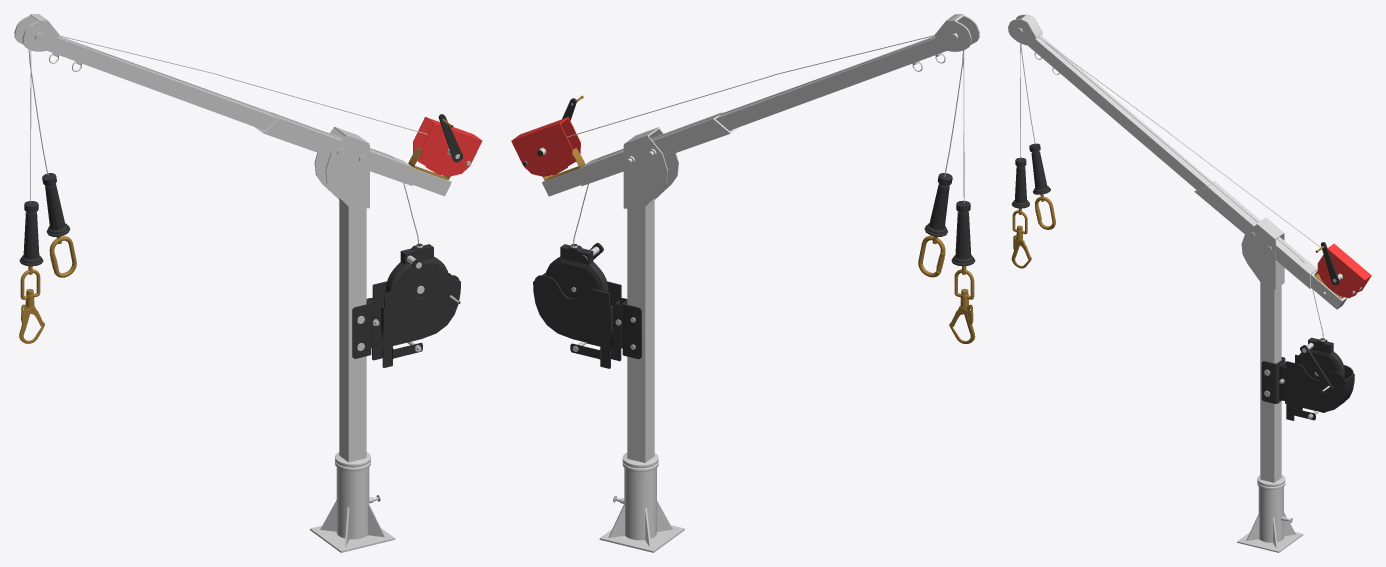
The model's file is SM_K_Pod.FBX.
3 renders of one model, left to right at view 1: azimuth 30°, elevation 25°; view 2: azimuth 150°, elevation 25°; view 3: azimuth 330°, elevation 25°, orthographic. The views are drawn at different scales.
Parts seen in each view (by area): view 1: SM_K_Pod, SM_K_Pod.ReTractable, SM_K_Pod_winch, SM_K_Pod_winch_hook, SM_K_Pod-RetractableHook; view 2: SM_K_Pod, SM_K_Pod.ReTractable, SM_K_Pod_winch, SM_K_Pod_winch_hook, SM_K_Pod-RetractableHook; view 3: SM_K_Pod, SM_K_Pod.ReTractable, SM_K_Pod_winch, SM_K_Pod_winch_hook, SM_K_Pod-RetractableHook.
Part boxes in pixels (x1,y1,x2,y2): SM_K_Pod: (14,14,451,552); SM_K_Pod.ReTractable: (28,36,460,367); SM_K_Pod_winch: (30,35,482,203); SM_K_Pod_winch_hook: (19,201,44,343); SM_K_Pod-RetractableHook: (42,173,76,277); SM_K_Pod: (542,14,979,552); SM_K_Pod.ReTractable: (533,36,963,368); SM_K_Pod_winch: (511,35,964,203); SM_K_Pod_winch_hook: (949,200,975,343); SM_K_Pod-RetractableHook: (918,173,952,277); SM_K_Pod: (1008,14,1347,552); SM_K_Pod.ReTractable: (1021,36,1354,420); SM_K_Pod_winch: (1020,37,1371,298); SM_K_Pod_winch_hook: (1011,157,1031,268); SM_K_Pod-RetractableHook: (1029,143,1055,229).
Bounding box in the file's own units: 149 × 184 × 19.85.
